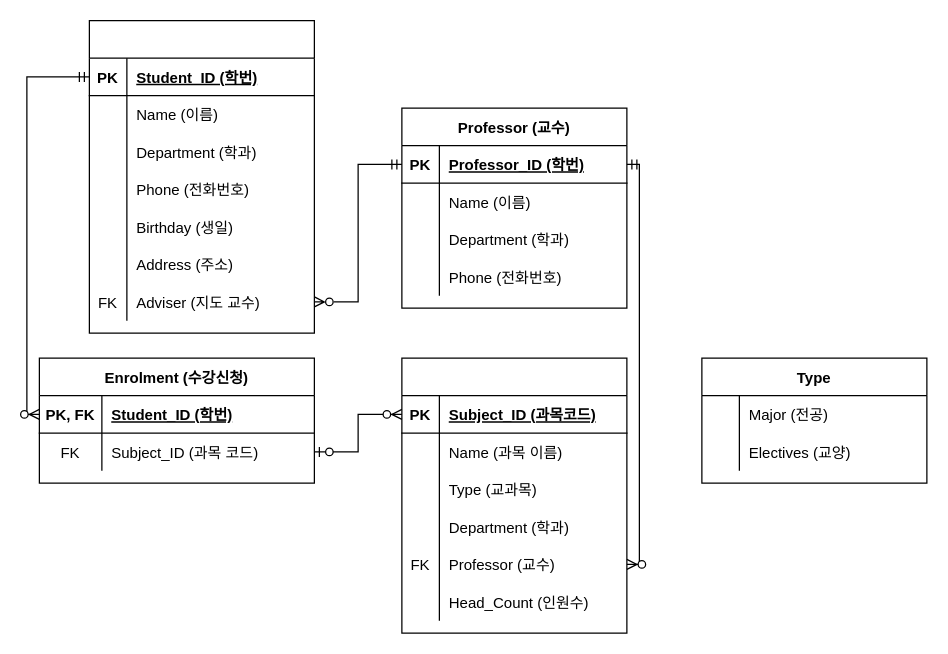
This 948x654 diagram has some shape labels left out. The shapes that lost their labels are listed below. From the top down, each one's box as (x1, y1, x2, y2) in pixels, then its label:
(88, 19, 314, 333): Student (학생)
(401, 357, 627, 633): Subject (과목)
